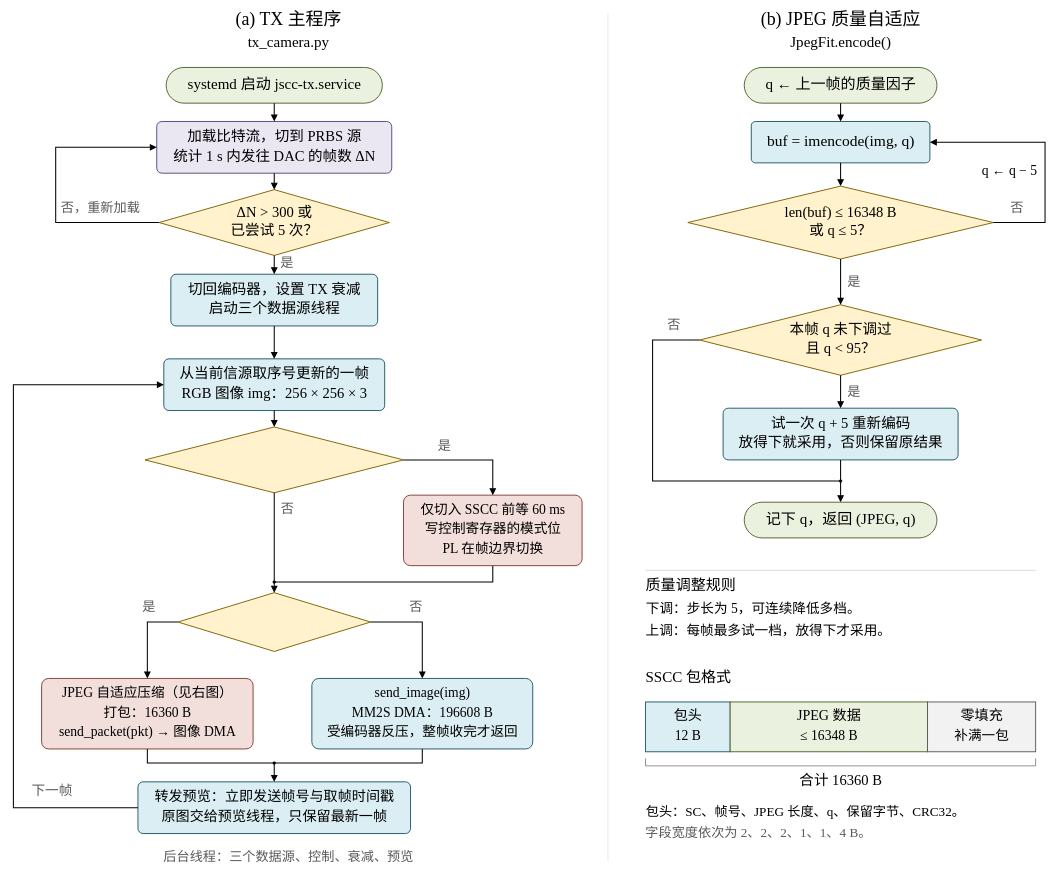
Some shapes in this 1059 by 873 pixel diagram are drawn without their labels. Each missing label, with the box of its shape:
GUI 要求切换模式？: (144, 426, 404, 493)
SSCC 模式？: (177, 592, 371, 652)
